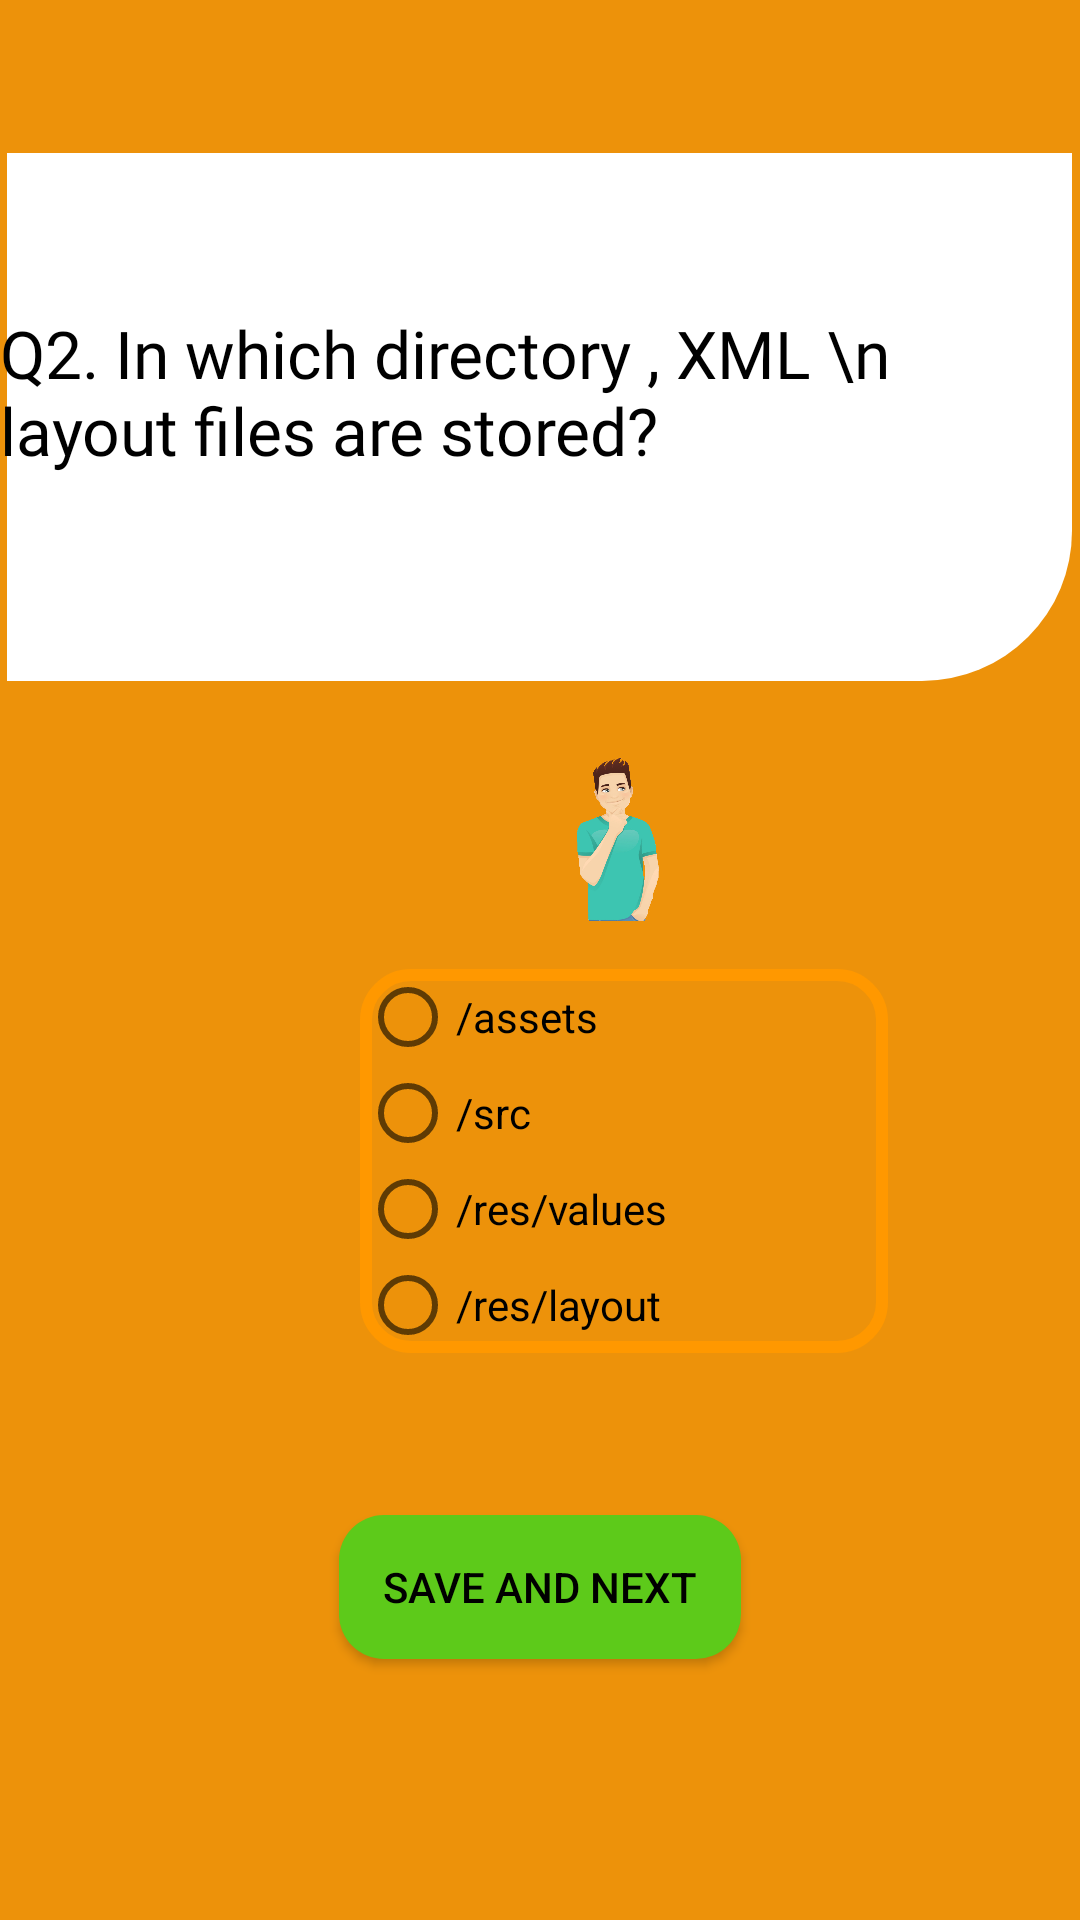

Icons on this 1080*1920 Android screen, each with the point to tap as (x,y):
think: (618,839)
